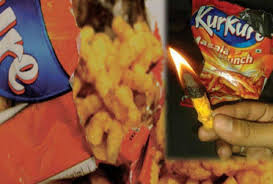kurkure: (196, 6, 260, 47)
